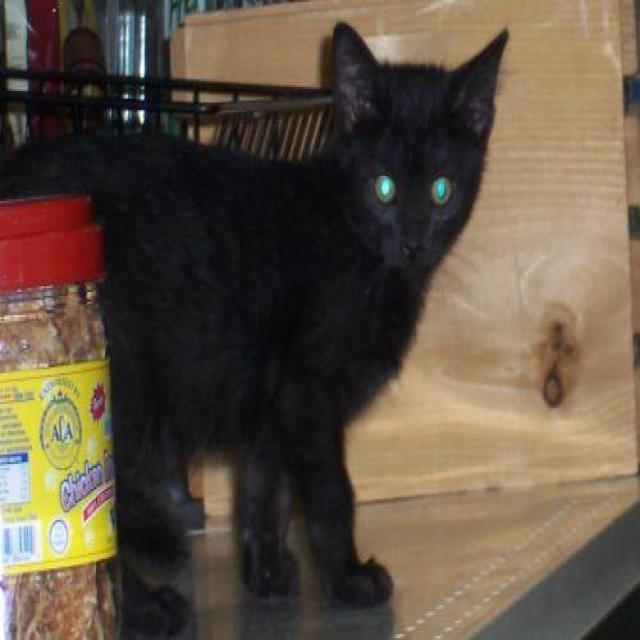cat: (0, 17, 509, 614)
